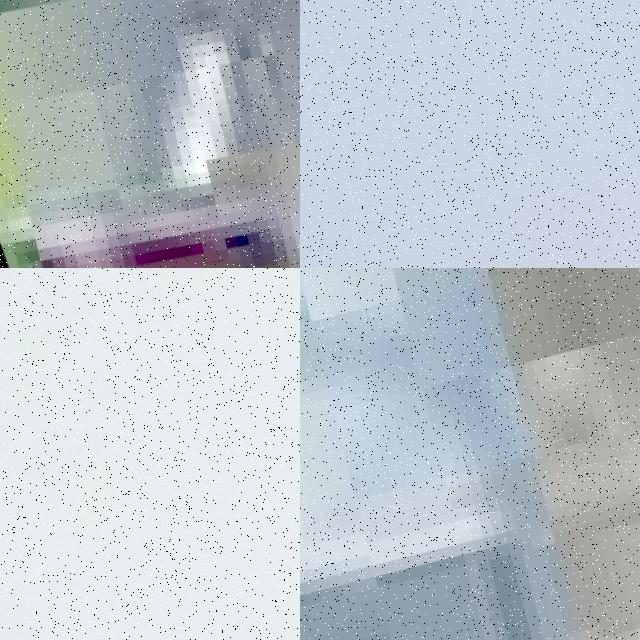drone: (0, 0, 300, 268)
